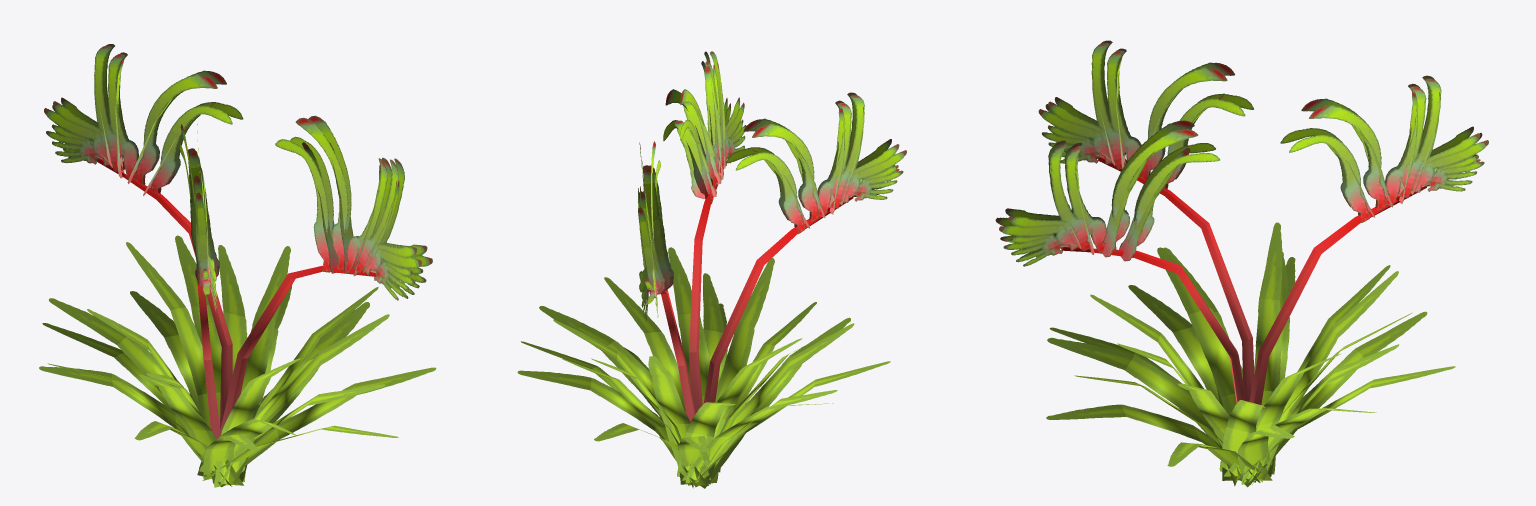
Rendered from JackarooPawHand.fbx.
The picture shows the model from 3 angles, left to right: view 1: azimuth 30°, elevation 25°; view 2: azimuth 150°, elevation 25°; view 3: azimuth 270°, elevation 25°; orthographic projection. The views are drawn at different scales.
Parts seen in each view (by area): view 1: Leaves (3), Leaves (2), Leaves (1); view 2: Leaves (1), Leaves (2), Leaves (3); view 3: Leaves (3), Leaves (2), Leaves (1).
Part boxes in pixels (x1=…): Leaves (3): x1=87, y1=115, x2=436, y2=480; Leaves (2): x1=42, y1=44, x2=378, y2=487; Leaves (1): x1=39, y1=124, x2=389, y2=478; Leaves (1): x1=553, y1=92, x2=906, y2=488; Leaves (2): x1=517, y1=141, x2=854, y2=474; Leaves (3): x1=521, y1=51, x2=841, y2=487; Leaves (3): x1=995, y1=120, x2=1399, y2=484; Leaves (2): x1=1090, y1=75, x2=1488, y2=487; Leaves (1): x1=1038, y1=40, x2=1412, y2=484.
Bounding box in the file's own units: 1.62 × 1.72 × 2.05.
